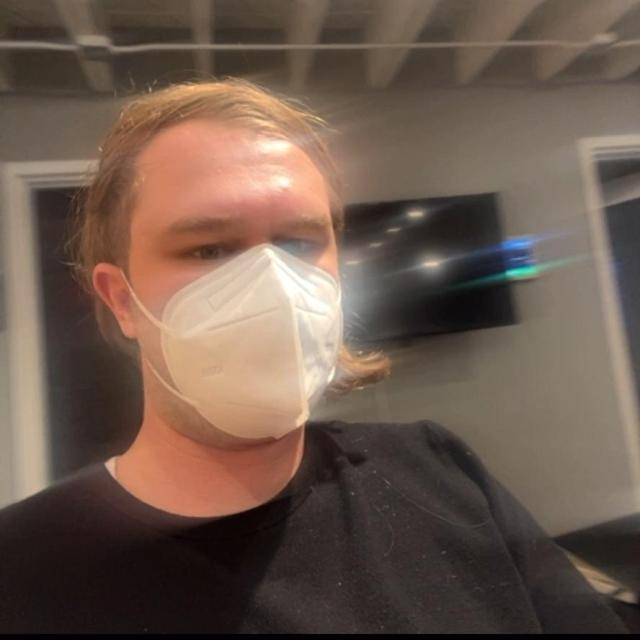no-helmet: (81, 63, 404, 520)
